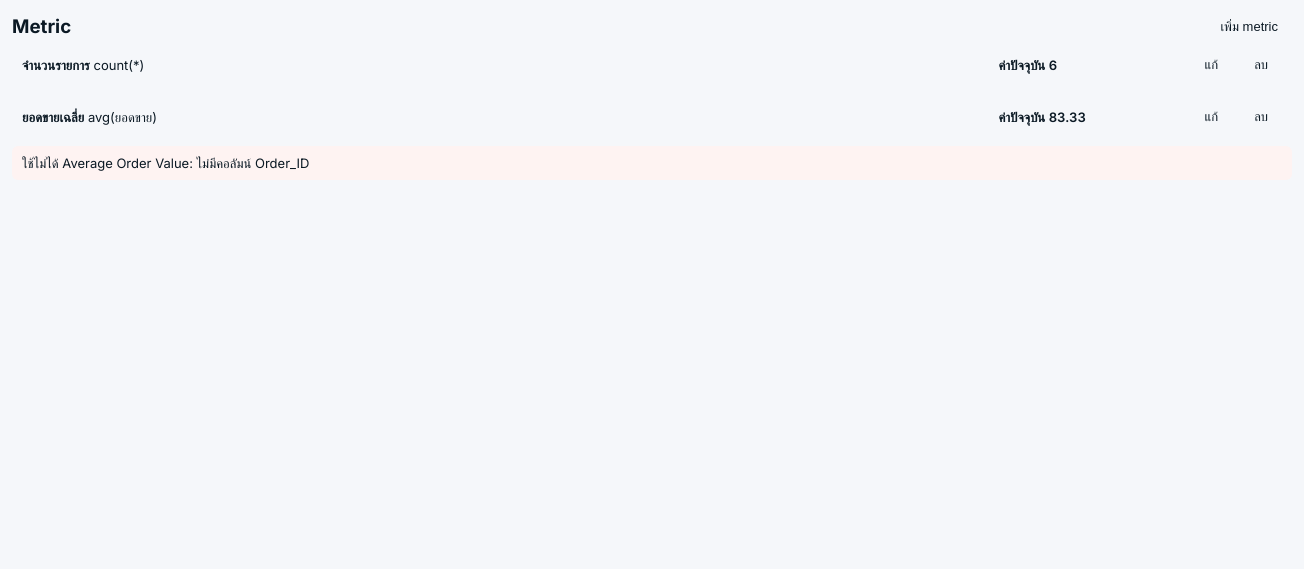
Scenario: drops a column the new calculation cannot use
Click the button "เพิ่ม metric": (1249, 27) [1206,12,1292,42]
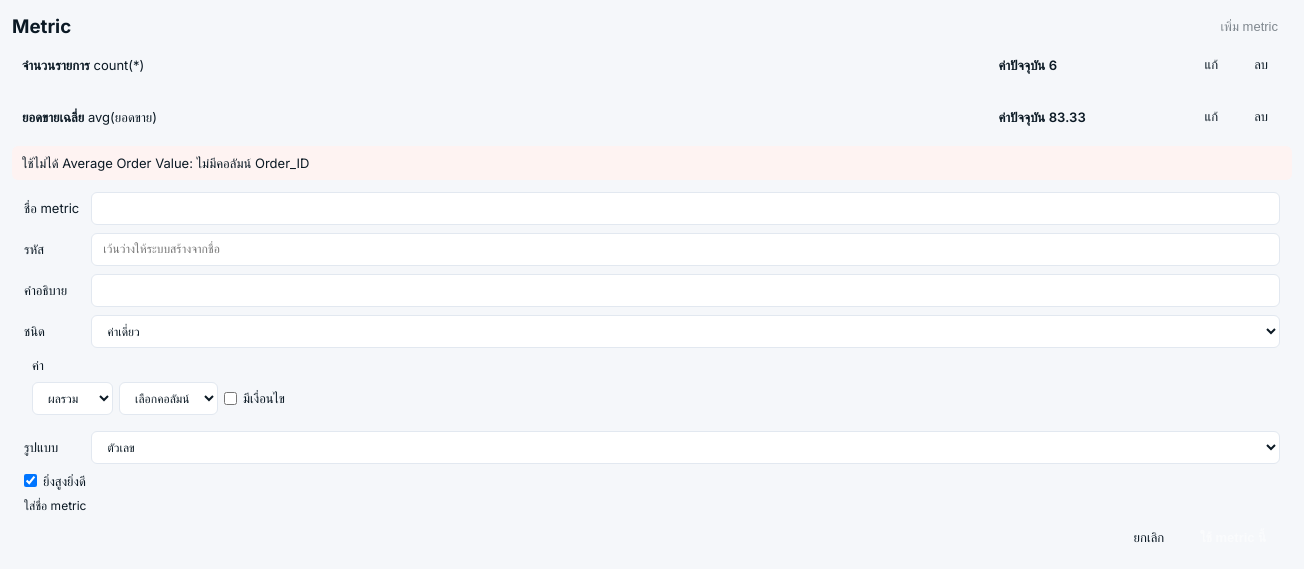
In the field labelled "ชื่อ metric": (686, 209) [91,192,1280,225], type "นับวัน"
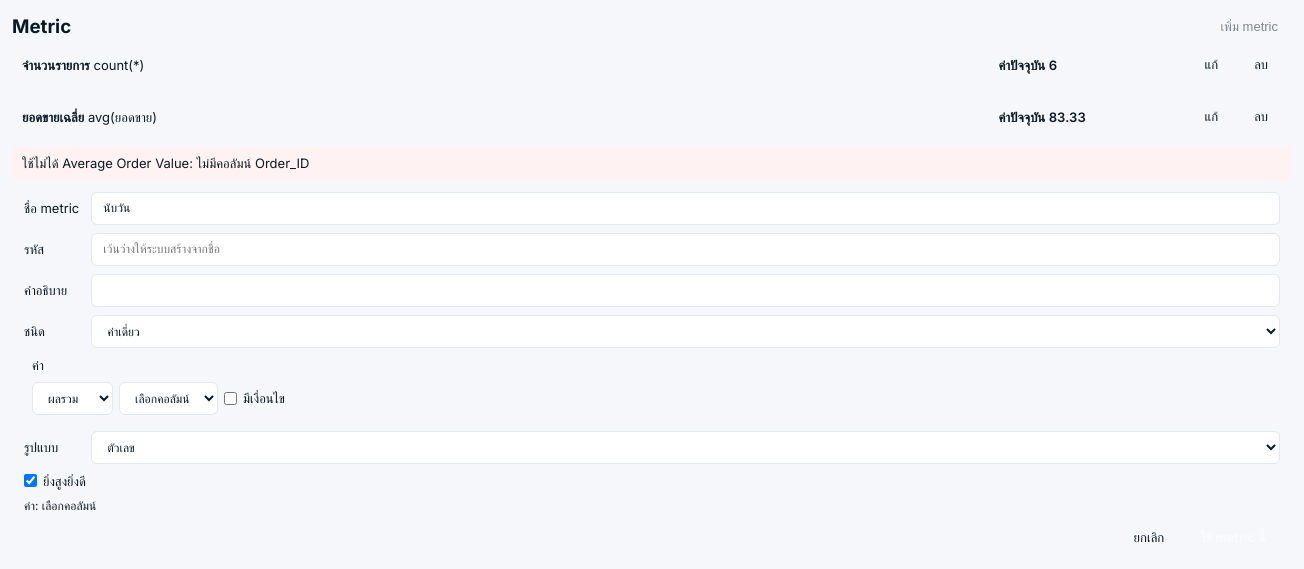
Select "นับไม่ซ้ำ" in the dropdown named "ค่า: การคำนวณ": (72, 398) [32,382,113,415]
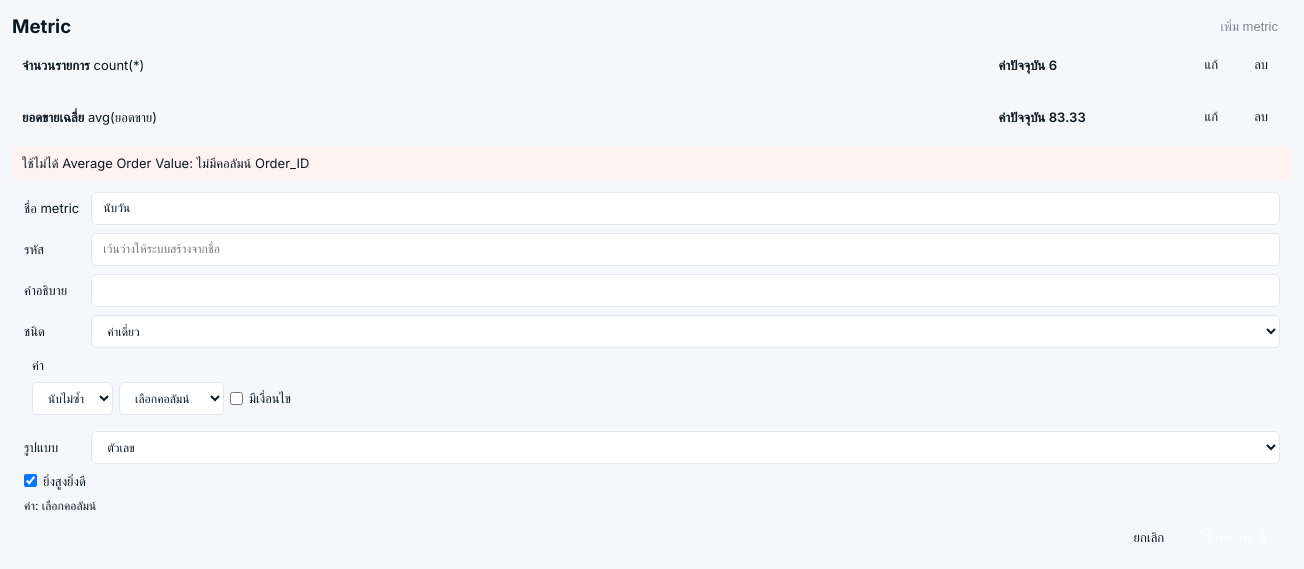
Select "order_date" in the dropdown named "ค่า: คอลัมน์": (172, 398) [119,382,224,415]
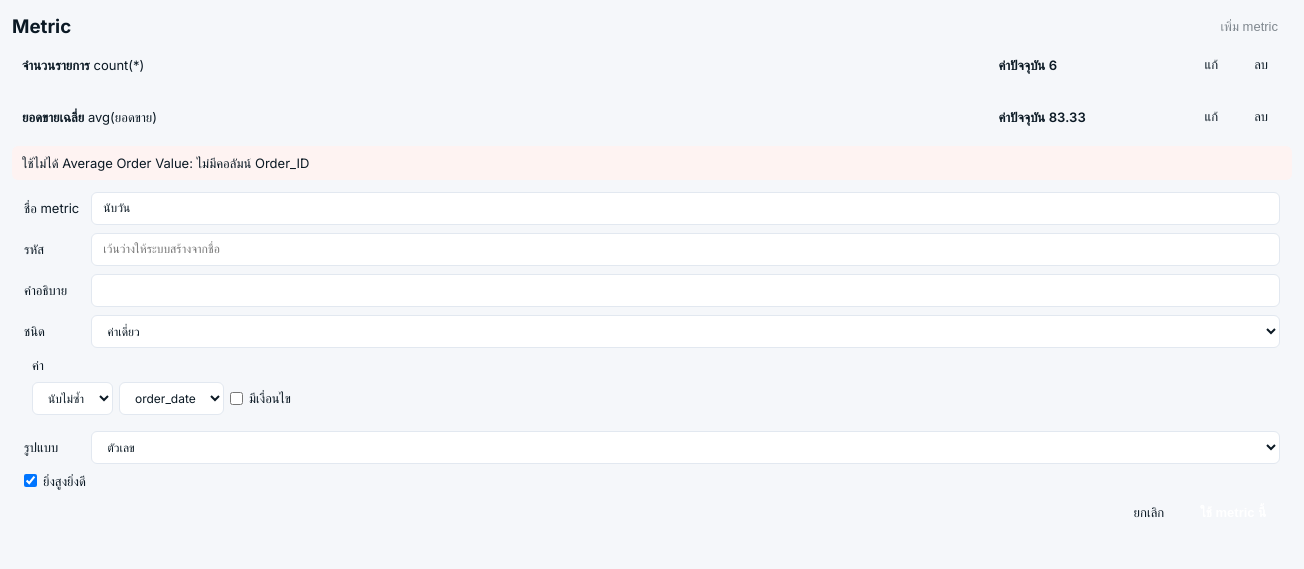
Select "ผลรวม" in the dropdown named "ค่า: การคำนวณ": (72, 398) [32,382,113,415]
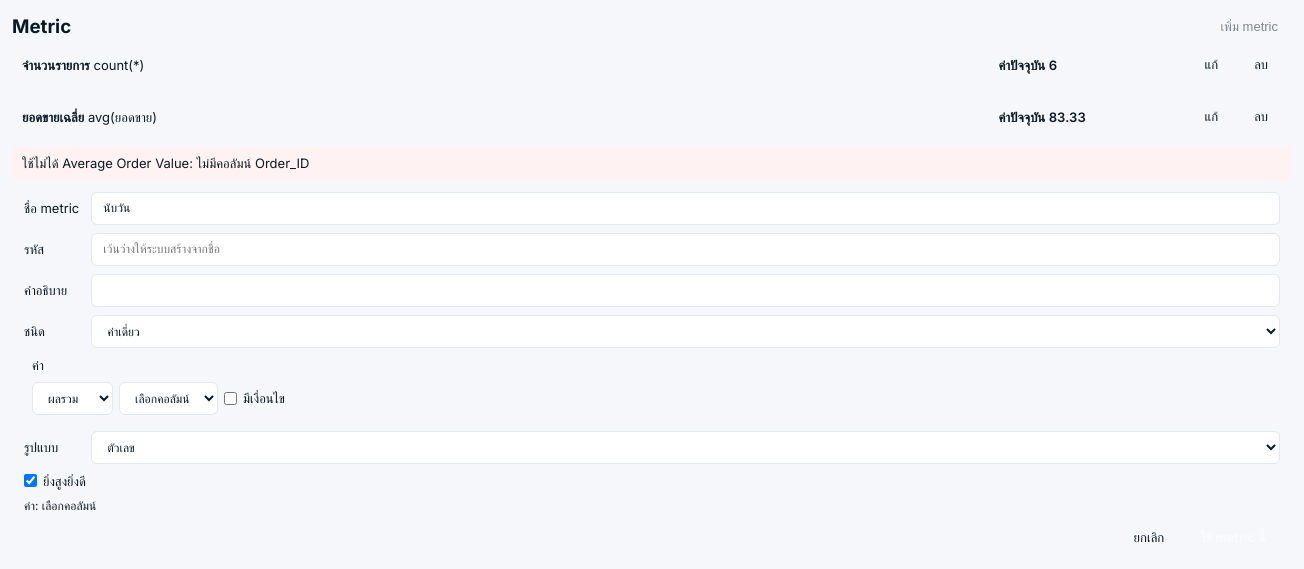
Check: the text "ค่า: เลือกคอลัมน์" is shown, box [24,498,96,513]
